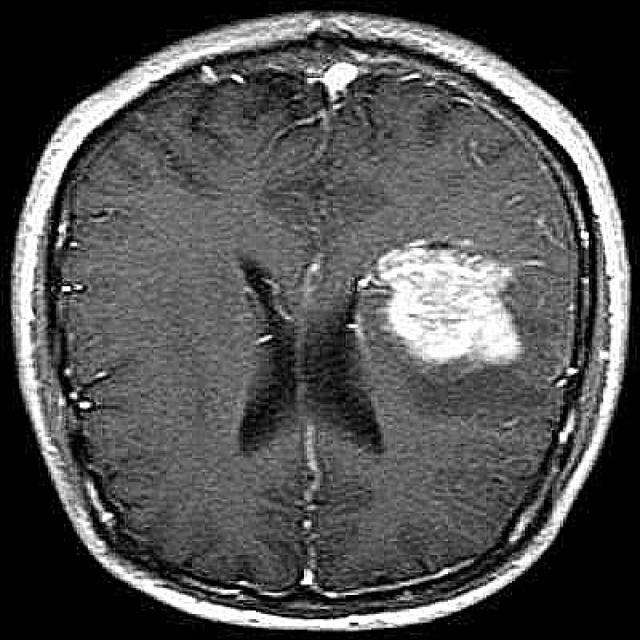Tumor-Cell: (379, 245, 509, 374)
